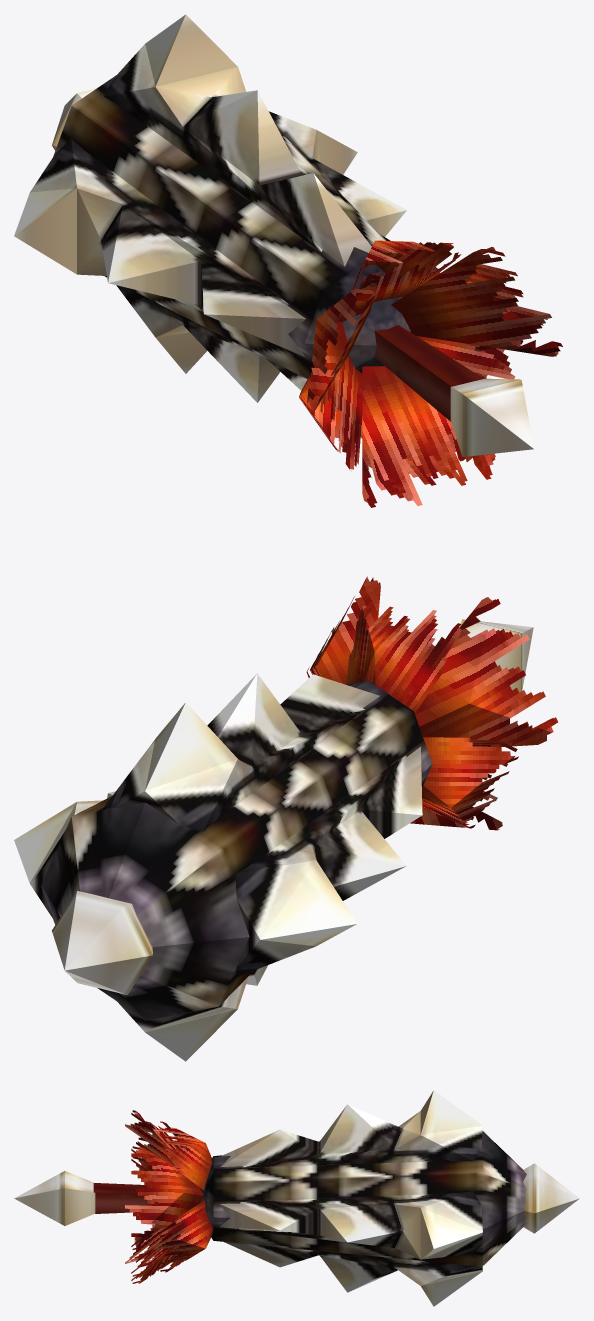
Rendered from club_ga2_double_club_double_club.glb.
3 views of the same model, one above another, from view 1: azimuth 30°, elevation 25°; view 2: azimuth 150°, elevation 25°; view 3: azimuth 270°, elevation 25° (orthographic). The views are drawn at different scales.
Bounding box in the file's own units: 0.3877 × 0.3877 × 0.917.
Materials: 2 (2 with a texture image).
